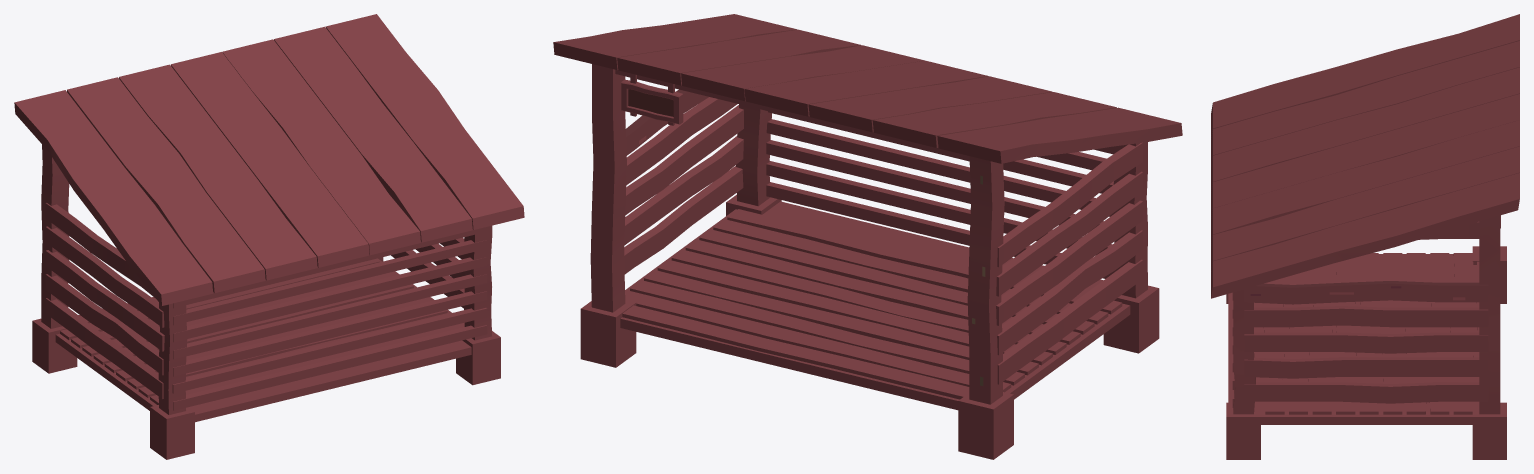
File: WoodShed.fbx
3 views of the same model, side by side, from view 1: azimuth 30°, elevation 25°; view 2: azimuth 150°, elevation 25°; view 3: azimuth 270°, elevation 25° (orthographic). The views are drawn at different scales.
Parts seen in each view (by area): view 1: WoodShed; view 2: WoodShed; view 3: WoodShed.
Boxes of the visible parts, x1,y1,x2,y2 form: WoodShed: [14, 14, 524, 459]; WoodShed: [553, 14, 1182, 459]; WoodShed: [1211, 14, 1519, 459].
Bounding box in the file's own units: 216 × 145 × 151.
